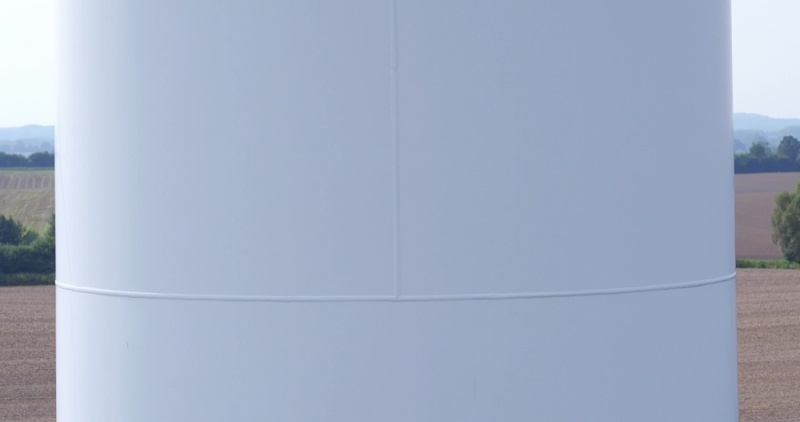weldseam: (55, 267, 740, 308), (388, 2, 402, 313)
